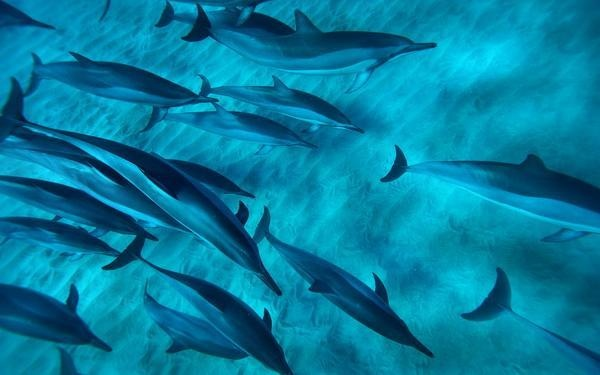fish: (95, 229, 298, 375), (247, 205, 438, 359), (180, 1, 437, 90), (386, 138, 600, 235), (20, 47, 219, 131), (195, 75, 366, 134), (139, 283, 257, 365), (135, 100, 323, 151)
